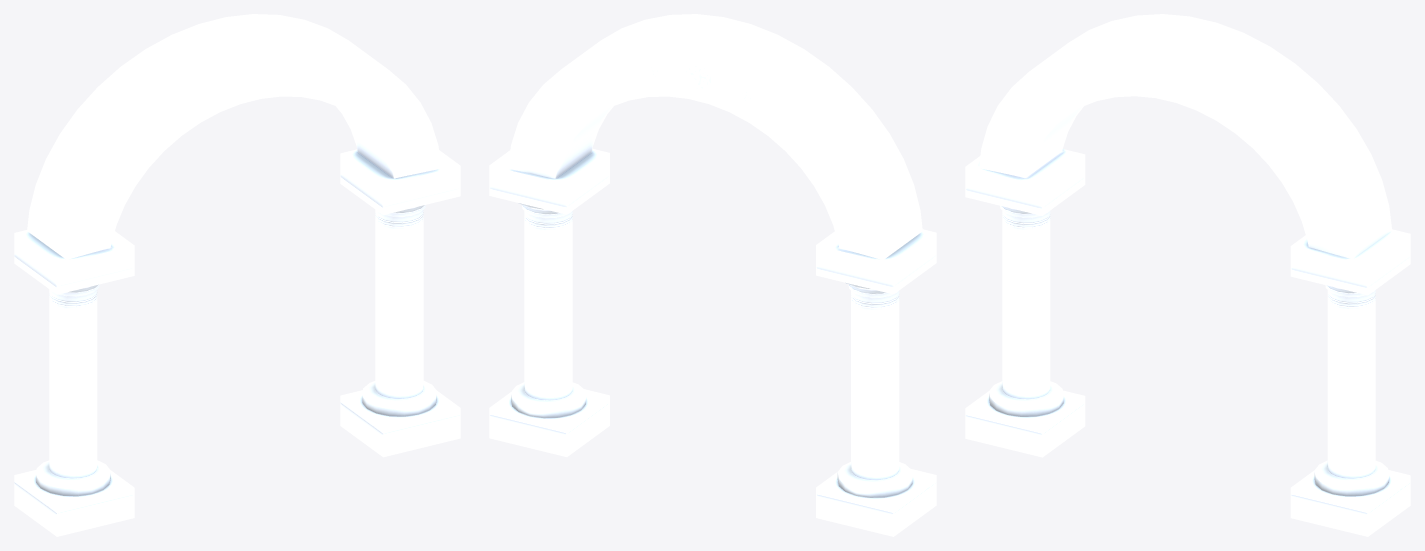
File: ArchWay.FBX
The picture shows the model from 3 angles, left to right: view 1: azimuth 30°, elevation 25°; view 2: azimuth 150°, elevation 25°; view 3: azimuth 330°, elevation 25°; orthographic projection.
Parts seen in each view (by area): view 1: ArchWay1, Cylinder007, Cylinder001, Box004, Box006, Box001, Box005; view 2: ArchWay1, Cylinder007, Cylinder001, Box006, Box004, Box001, Box005; view 3: ArchWay1, Cylinder001, Cylinder007, Box005, Box006, Box004, Box001.
Part boxes in pixels (x1,y1,x2,y2): ArchWay1: (27,14,441,259); Cylinder007: (36,284,110,496); Cylinder001: (362,205,436,416); Box004: (340,390,460,457); Box006: (14,469,134,536); Box001: (340,149,460,214); Box005: (14,230,134,294); ArchWay1: (508,14,922,259); Cylinder007: (837,282,912,497); Cylinder001: (511,203,585,418); Box006: (816,469,936,536); Box004: (489,389,609,456); Box001: (489,148,609,214); Box005: (816,229,936,294); ArchWay1: (979,14,1392,259); Cylinder001: (1314,285,1388,496); Cylinder007: (989,205,1063,416); Box005: (965,149,1085,215); Box006: (965,390,1085,457); Box004: (1290,470,1410,536); Box001: (1290,229,1410,295).
Bounding box in the file's own units: 2.62 × 2.71 × 0.481.
Materials: 1 (1 with a texture image).
